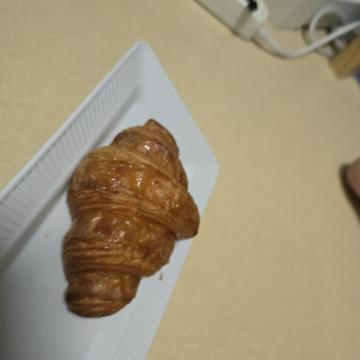croissant: (108, 150, 330, 314)
